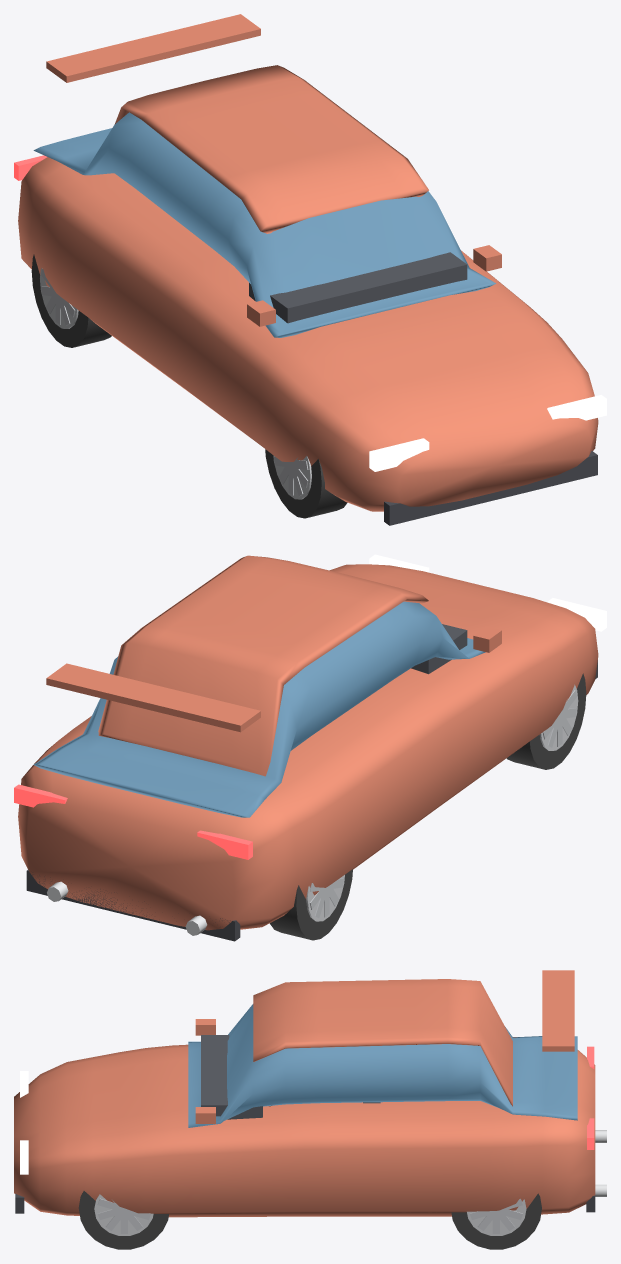
File: pip.glb
The picture shows the model from 3 angles, top to bottom: view 1: azimuth 30°, elevation 25°; view 2: azimuth 150°, elevation 25°; view 3: azimuth 270°, elevation 25°; orthographic projection. The views are drawn at different scales.
Parts seen in each view (by area): view 1: Body, Glass, Roof, Car_pip, Interior, Wheel_FR, Wheel_RR; view 2: Body, Roof, Glass, Car_pip, Wheel_RR, Wheel_FR, Interior; view 3: Body, Glass, Roof, Car_pip, Wheel_FL, Wheel_RL, Interior.
Part boxes in pixels (<box>): Body: <box>18,157,598,511</box>; Glass: <box>33,112,495,337</box>; Roof: <box>114,65,428,233</box>; Car_pip: <box>14,14,606,525</box>; Interior: <box>249,252,467,323</box>; Wheel_FR: <box>265,449,347,518</box>; Wheel_RR: <box>31,254,111,347</box>; Body: <box>18,564,598,930</box>; Roof: <box>98,555,428,776</box>; Glass: <box>33,601,485,817</box>; Car_pip: <box>14,554,606,941</box>; Wheel_RR: <box>270,869,352,940</box>; Wheel_FR: <box>506,673,586,769</box>; Interior: <box>411,624,467,674</box>; Body: <box>14,1037,595,1217</box>; Glass: <box>188,1004,577,1127</box>; Roof: <box>253,979,512,1106</box>; Car_pip: <box>15,970,606,1213</box>; Wheel_FL: <box>78,1191,168,1249</box>; Wheel_RL: <box>451,1193,541,1249</box>; Interior: <box>201,1035,380,1119</box>.
Bounding box in the file's own units: 1.74 × 1.44 × 4.03.
